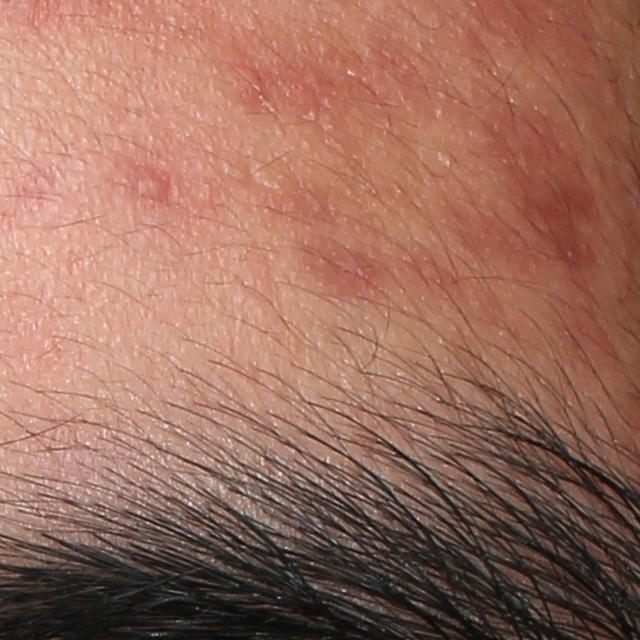atrophic_scar: (530, 165, 608, 279)
papule: (144, 171, 180, 206)
